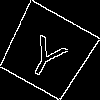Y: (22, 26, 74, 83)
